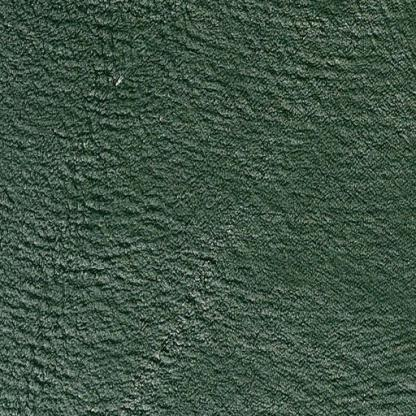ship: (112, 73, 124, 87)
